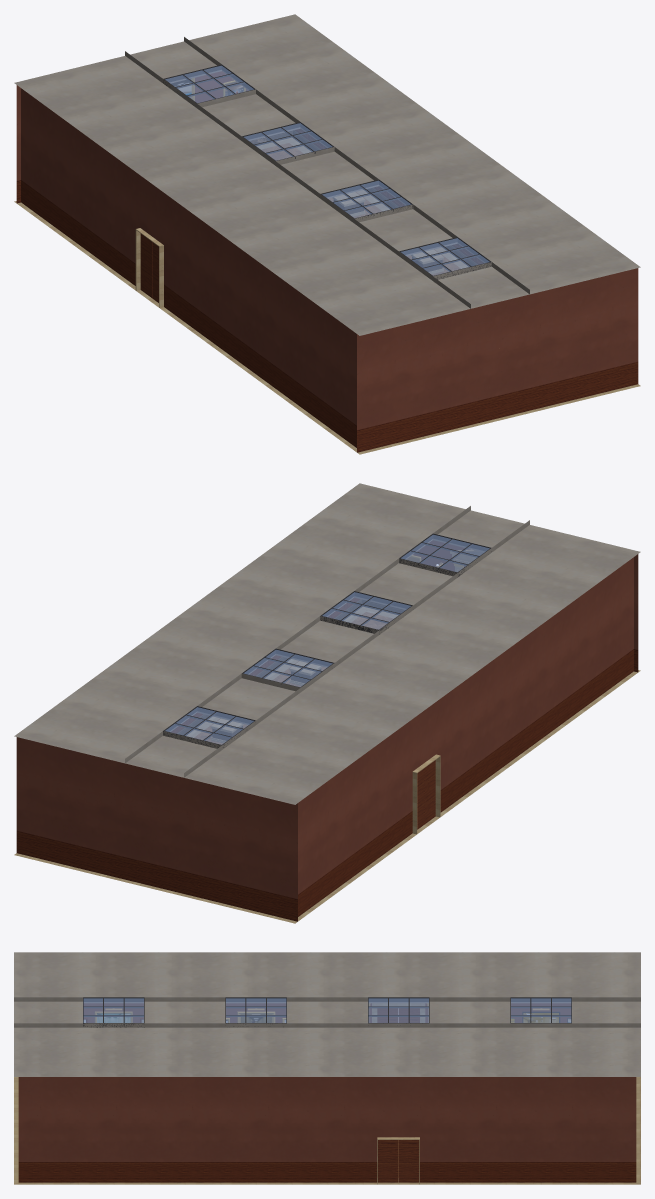
File: galleries.glb
3 views of the same model, one above another, from view 1: azimuth 30°, elevation 25°; view 2: azimuth 150°, elevation 25°; view 3: azimuth 270°, elevation 25° (orthographic). The views are drawn at different scales.
Visible parts, largest first — view 1: Ceiling_Paint, Wall_Paint, Wainscot_Wood, Skylight_Glass, Metal_Dark, Floor_Marble, Marble_White, DoorLeaf_wing_w_A, Floor_Parquet; view 2: Ceiling_Paint, Wall_Paint, Wainscot_Wood, Skylight_Glass, Metal_Dark, Floor_Marble, Marble_White, DoorLeaf_wing_w_B, Floor_Parquet, Skirting_Marble; view 3: Ceiling_Paint, Wall_Paint, Wainscot_Wood, Skylight_Glass, Floor_Marble, Metal_Dark, DoorLeaf_wing_e_A, DoorLeaf_wing_e_B, Canvas_Paintings, Marble_White.
Boxes of the visible parts, x1,y1,x2,y2 form: Ceiling_Paint: [14, 14, 640, 335]; Wall_Paint: [16, 71, 638, 429]; Wainscot_Wood: [16, 129, 638, 452]; Skylight_Glass: [165, 65, 489, 275]; Metal_Dark: [163, 64, 491, 279]; Floor_Marble: [14, 138, 640, 454]; Marble_White: [135, 192, 443, 307]; DoorLeaf_wing_w_A: [140, 233, 152, 297]; Floor_Parquet: [261, 143, 460, 275]; Ceiling_Paint: [14, 483, 640, 804]; Wall_Paint: [16, 540, 638, 898]; Wainscot_Wood: [16, 598, 638, 921]; Skylight_Glass: [165, 534, 489, 744]; Metal_Dark: [163, 533, 491, 747]; Floor_Marble: [14, 607, 640, 923]; Marble_White: [211, 549, 478, 834]; DoorLeaf_wing_w_B: [424, 760, 435, 824]; Floor_Parquet: [194, 612, 393, 744]; Skirting_Marble: [177, 599, 404, 734]; Ceiling_Paint: [14, 952, 640, 1076]; Wall_Paint: [18, 1003, 636, 1161]; Wainscot_Wood: [18, 1162, 636, 1182]; Skylight_Glass: [83, 998, 571, 1022]; Floor_Marble: [14, 1077, 640, 1184]; Metal_Dark: [83, 997, 571, 1027]; DoorLeaf_wing_e_A: [399, 1140, 419, 1182]; DoorLeaf_wing_e_B: [378, 1140, 398, 1182]; Canvas_Paintings: [84, 1013, 570, 1022]; Marble_White: [372, 1003, 428, 1184].
Bounding box in the file's own units: 12.4 × 5.2 × 26.4.
Materials: 25 (19 with a texture image).
